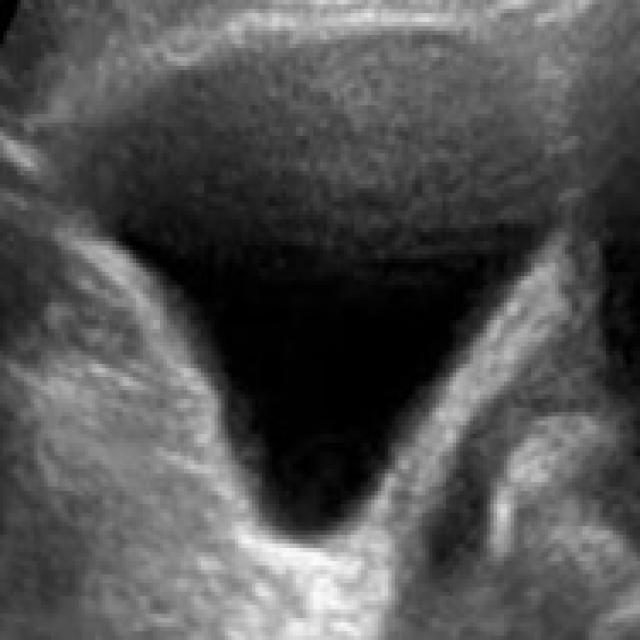bladder: (25, 10, 573, 589)
